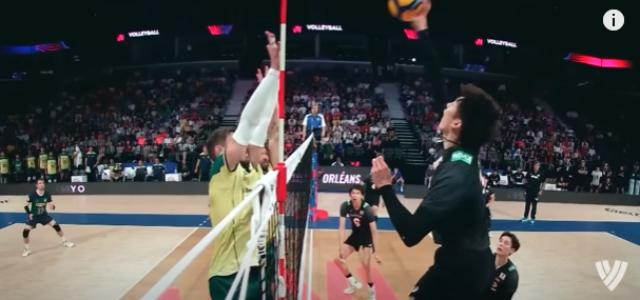Levantador: (179, 11, 287, 300)
Libero: (9, 172, 82, 258)
bola: (379, 0, 439, 30)
